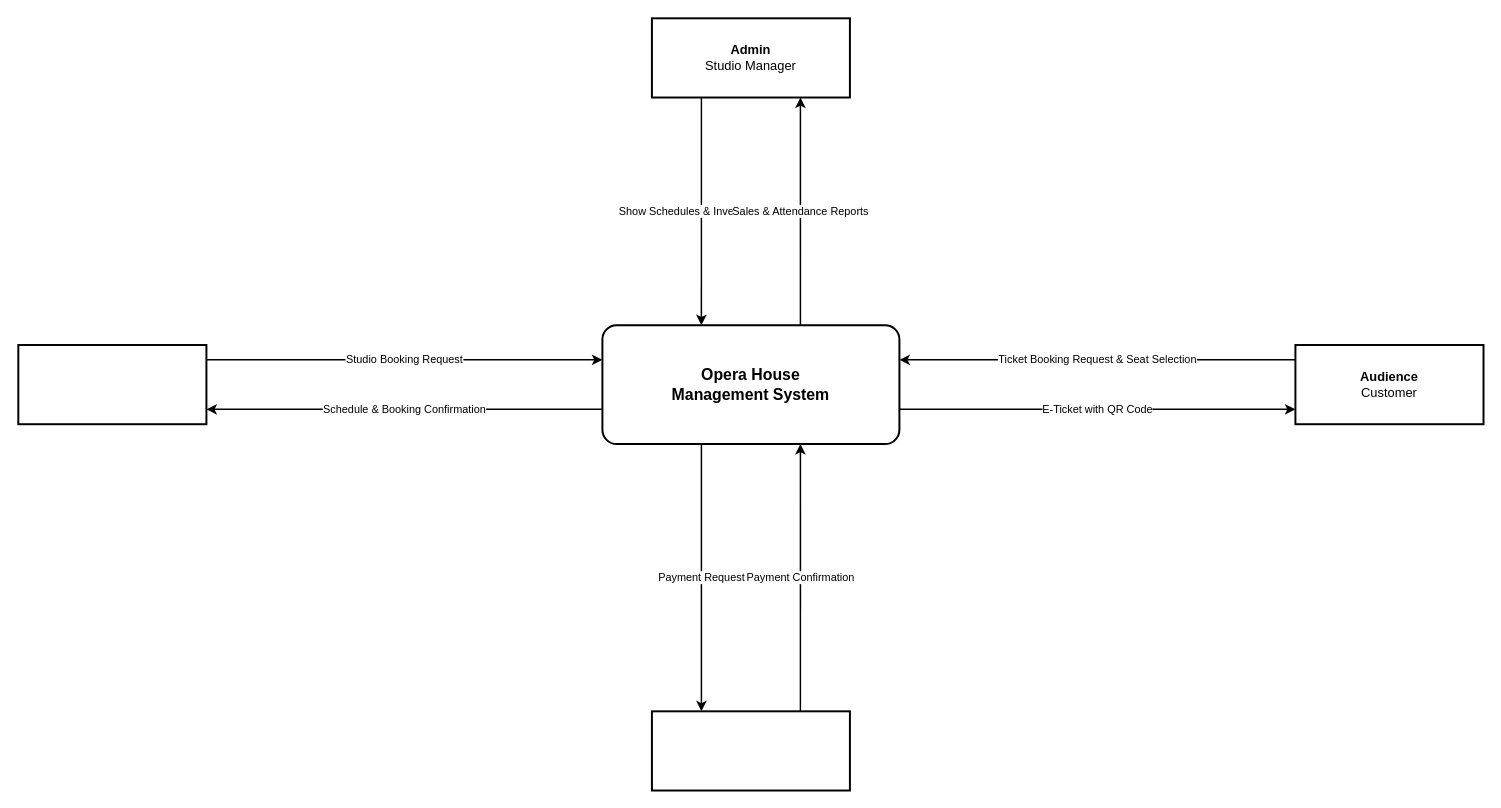
Some shapes in this 1501 by 808 pixel diagram are drawn without their labels. The shapes that lost their labels are listed below. From the top down, each one's box as (x1, y1, x2, y2) in pixels, then its label:
(17, 344, 207, 425): Musician Band
(650, 710, 850, 791): Payment Gateway
